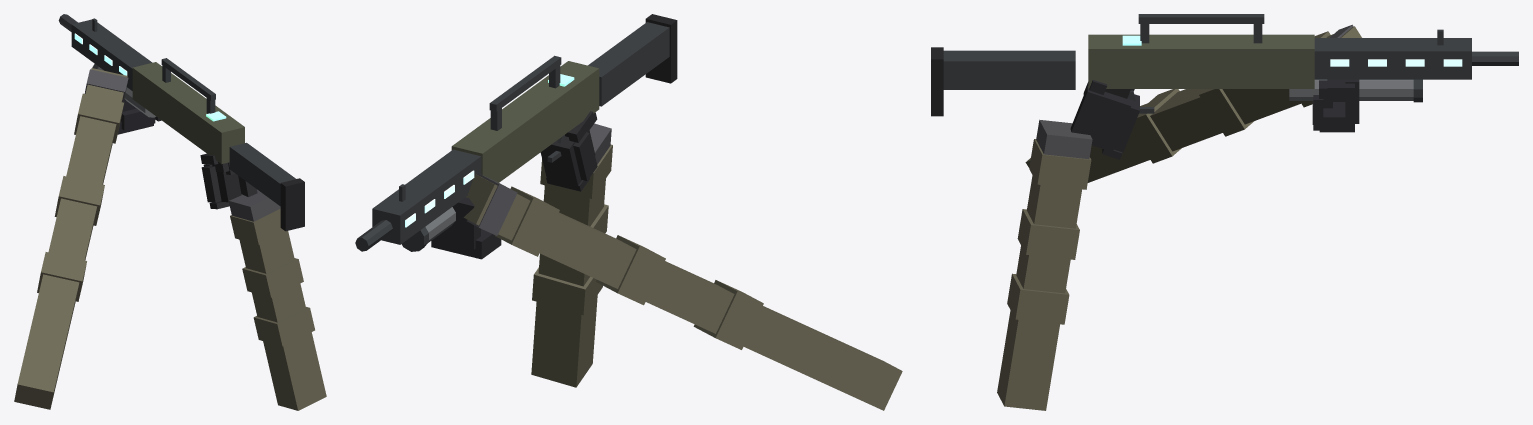
The model's file is plasma.glb.
3 renders of one model, left to right at view 1: azimuth 30°, elevation 25°; view 2: azimuth 150°, elevation 25°; view 3: azimuth 270°, elevation 25°, orthographic. The views are drawn at different scales.
Parts seen in each view (by area): view 1: QL_Forearm, QR_Forearm, Q_Receiver, Q_Shroud, Q_Stock, QR_Wrap2, QR_Wrap1, Q_Butt, QR_Wrap0, QL_Wrap1, QL_Wrap0, QL_Wrap2 (+6 smaller); view 2: QL_Forearm, Q_Receiver, QR_Forearm, Q_Shroud, Q_Stock, QR_Wrap2, QL_Wrap1, QL_Wrap2, QL_Wrap0, QR_Fingers, QL_Palm, QL_Bracelet (+8 smaller); view 3: Q_Receiver, QR_Forearm, Q_Shroud, QL_Forearm, Q_Stock, QR_Palm, QR_Wrap2, QR_Wrap1, QR_Wrap0, QR_Bracelet, Q_Chamber, QL_Wrap2 (+7 smaller).
Part boxes in pixels (x1=…): QL_Forearm: x1=14, y1=68, x2=127, y2=409; QR_Forearm: x1=239, y1=231, x2=326, y2=410; Q_Receiver: x1=132, y1=62, x2=244, y2=164; Q_Shroud: x1=71, y1=19, x2=152, y2=90; Q_Stock: x1=229, y1=142, x2=295, y2=206; QR_Wrap2: x1=253, y1=307, x2=314, y2=346; QR_Wrap1: x1=242, y1=258, x2=303, y2=297; Q_Butt: x1=280, y1=178, x2=304, y2=231; QR_Wrap0: x1=230, y1=208, x2=286, y2=244; QL_Wrap1: x1=54, y1=176, x2=104, y2=225; QL_Wrap0: x1=74, y1=93, x2=123, y2=143; QL_Wrap2: x1=37, y1=252, x2=86, y2=301; QL_Forearm: x1=463, y1=174, x2=902, y2=410; Q_Receiver: x1=451, y1=61, x2=599, y2=182; QR_Forearm: x1=531, y1=179, x2=605, y2=387; Q_Shroud: x1=372, y1=149, x2=481, y2=244; Q_Stock: x1=588, y1=22, x2=669, y2=106; QR_Wrap2: x1=532, y1=267, x2=602, y2=315; QL_Wrap1: x1=595, y1=235, x2=665, y2=305; QL_Wrap2: x1=693, y1=280, x2=763, y2=349; QL_Wrap0: x1=495, y1=186, x2=559, y2=256; QR_Fingers: x1=540, y1=136, x2=581, y2=185; QL_Palm: x1=433, y1=197, x2=480, y2=249; QL_Bracelet: x1=467, y1=173, x2=517, y2=235; Q_Receiver: x1=1088, y1=34, x2=1314, y2=88; QR_Forearm: x1=997, y1=175, x2=1082, y2=410; Q_Shroud: x1=1314, y1=38, x2=1471, y2=79; QL_Forearm: x1=1025, y1=26, x2=1361, y2=182; Q_Stock: x1=943, y1=50, x2=1075, y2=89; QR_Palm: x1=1070, y1=86, x2=1131, y2=152; QR_Wrap2: x1=1007, y1=273, x2=1069, y2=324; QR_Wrap1: x1=1017, y1=209, x2=1079, y2=259; QR_Wrap0: x1=1029, y1=139, x2=1091, y2=189; QR_Bracelet: x1=1036, y1=119, x2=1092, y2=159; Q_Chamber: x1=1289, y1=79, x2=1413, y2=100; QL_Wrap2: x1=1132, y1=89, x2=1181, y2=163.
Size of the model in its own units: 0.6773 by 0.6419 by 0.935.
